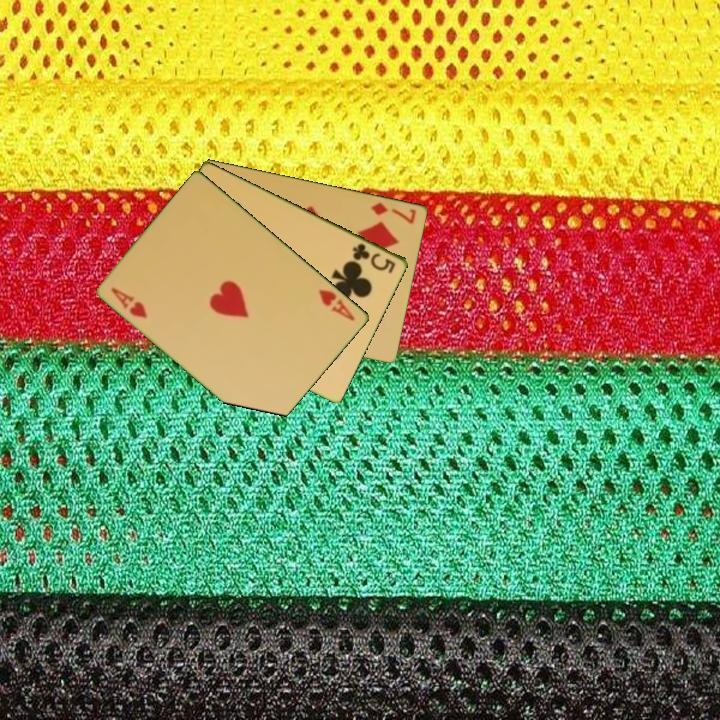5c: (349, 239, 399, 276)
7d: (368, 199, 419, 226)
Ah: (315, 285, 358, 324), (108, 284, 151, 321)
